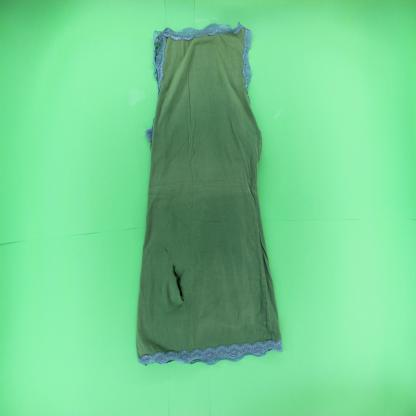hole: (164, 246, 187, 306)
